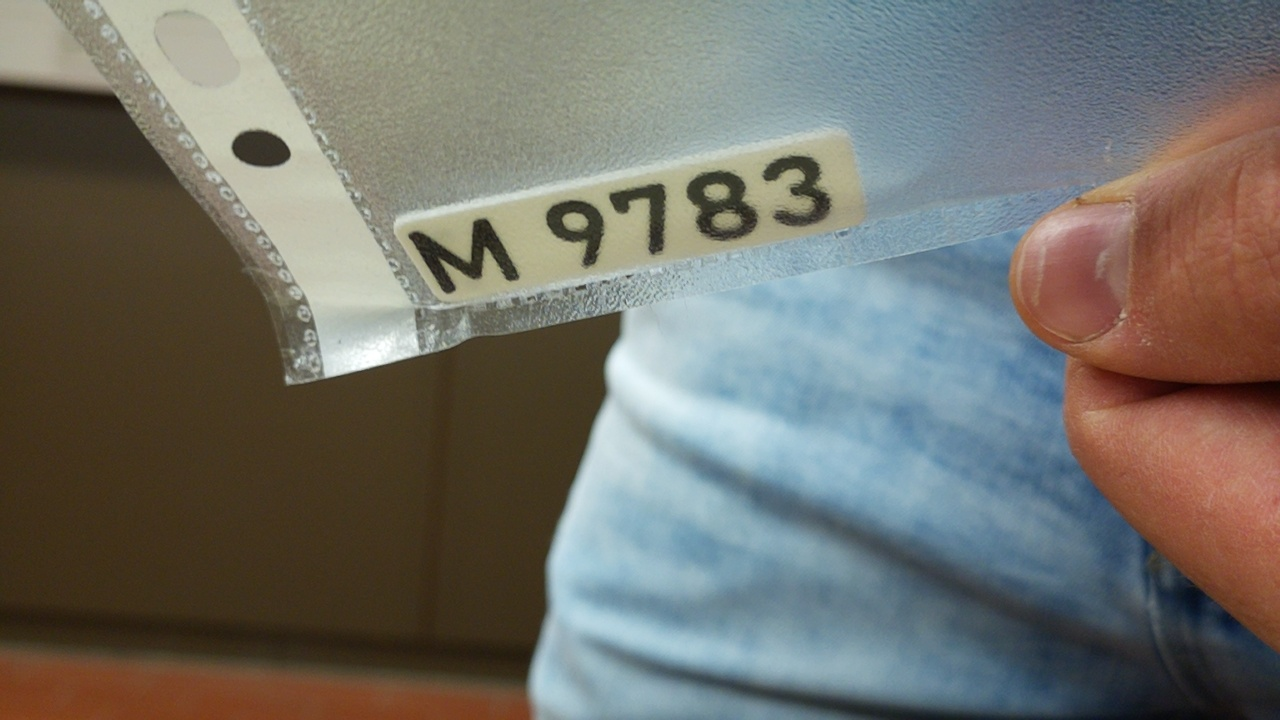license_plate: (391, 122, 873, 309)
